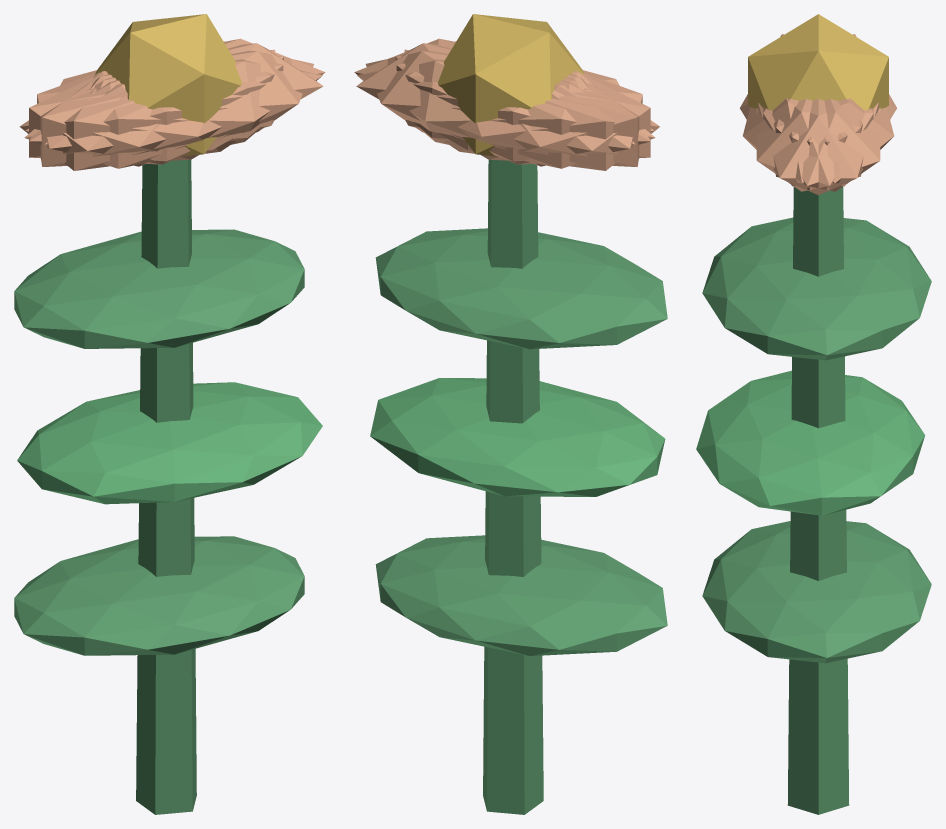
File: fatoua-villosa.glb
The picture shows the model from 3 angles, left to right: view 1: azimuth 30°, elevation 25°; view 2: azimuth 150°, elevation 25°; view 3: azimuth 270°, elevation 25°; orthographic projection.
Visible parts, largest first — view 1: leaf1, leaf2, leaf0, stem, center, petal1, petal6, petal2, petal5, petal7, petal0, petal4 (+2 smaller); view 2: leaf2, leaf0, leaf1, stem, center, petal8, petal3, petal7, petal4, petal2, petal0, petal5 (+2 smaller); view 3: leaf2, leaf1, leaf0, stem, center, petal0, petal4, petal5, petal1, petal8.
Boxes of the visible parts, left/top/right/bottom form: leaf1: left=17, top=382, right=322, bottom=504; leaf2: left=14, top=229, right=304, bottom=348; leaf0: left=14, top=536, right=304, bottom=655; stem: left=136, top=159, right=196, bottom=814; center: left=95, top=14, right=241, bottom=156; petal1: left=24, top=59, right=322, bottom=168; petal6: left=19, top=72, right=235, bottom=170; petal2: left=40, top=49, right=275, bottom=166; petal5: left=44, top=51, right=313, bottom=161; petal7: left=29, top=56, right=283, bottom=164; petal0: left=94, top=43, right=323, bottom=150; petal4: left=25, top=38, right=325, bottom=141; leaf2: left=375, top=228, right=667, bottom=349; leaf0: left=375, top=535, right=667, bottom=655; leaf1: left=370, top=378, right=665, bottom=496; stem: left=483, top=159, right=543, bottom=814; center: left=438, top=14, right=584, bottom=156; petal8: left=357, top=59, right=655, bottom=168; petal3: left=444, top=72, right=659, bottom=170; petal7: left=404, top=49, right=639, bottom=166; petal4: left=365, top=51, right=635, bottom=161; petal2: left=395, top=56, right=650, bottom=164; petal0: left=356, top=43, right=584, bottom=150; petal5: left=354, top=38, right=653, bottom=141; leaf2: left=702, top=217, right=931, bottom=360; leaf1: left=696, top=370, right=925, bottom=515; leaf0: left=702, top=521, right=931, bottom=663; stem: left=787, top=187, right=849, bottom=814; center: left=748, top=14, right=888, bottom=110; petal0: left=758, top=99, right=878, bottom=195; petal4: left=763, top=99, right=880, bottom=191; petal5: left=756, top=99, right=873, bottom=191; petal1: left=742, top=98, right=862, bottom=183; petal8: left=774, top=98, right=894, bottom=183.
Size of the model in its own units: 0.1495 by 0.3682 by 0.1023.
